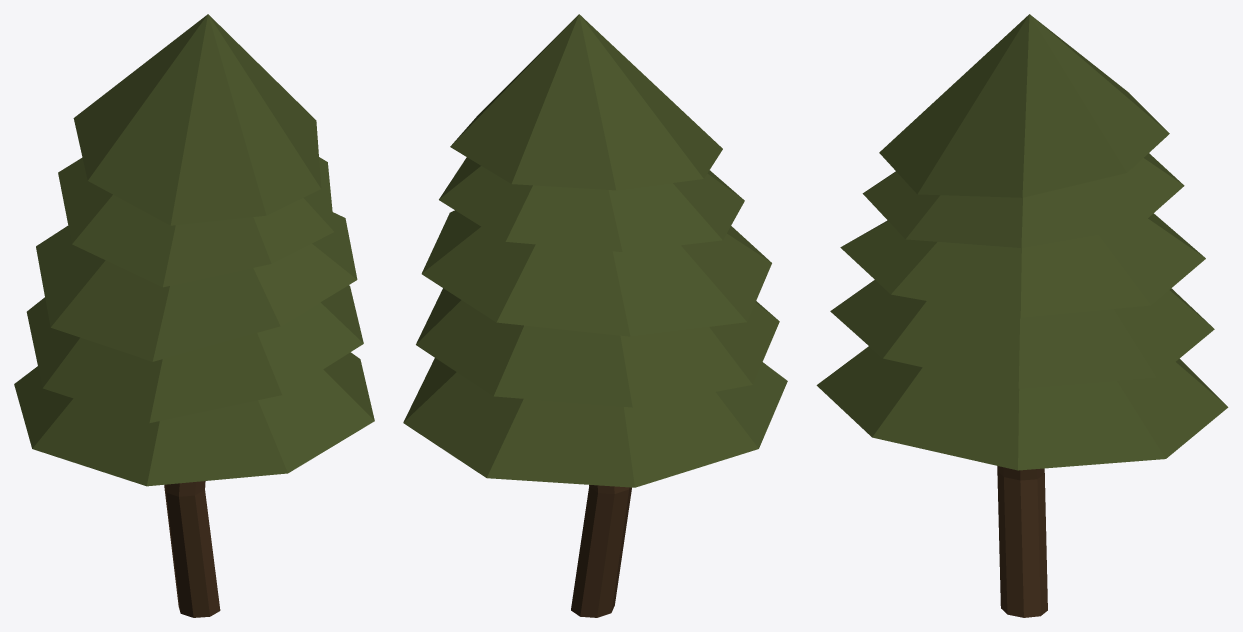
The picture shows the model from 3 angles, left to right: view 1: azimuth 30°, elevation 25°; view 2: azimuth 150°, elevation 25°; view 3: azimuth 270°, elevation 25°; orthographic projection.
Parts seen in each view (by area): view 1: Circle.001; view 2: Circle.001; view 3: Circle.001.
Part boxes in pixels (bbox=[...]): Circle.001: bbox=[14, 14, 374, 617]; Circle.001: bbox=[403, 14, 787, 617]; Circle.001: bbox=[816, 14, 1228, 617].
Bounding box in the file's own units: 236 × 411 × 255.
